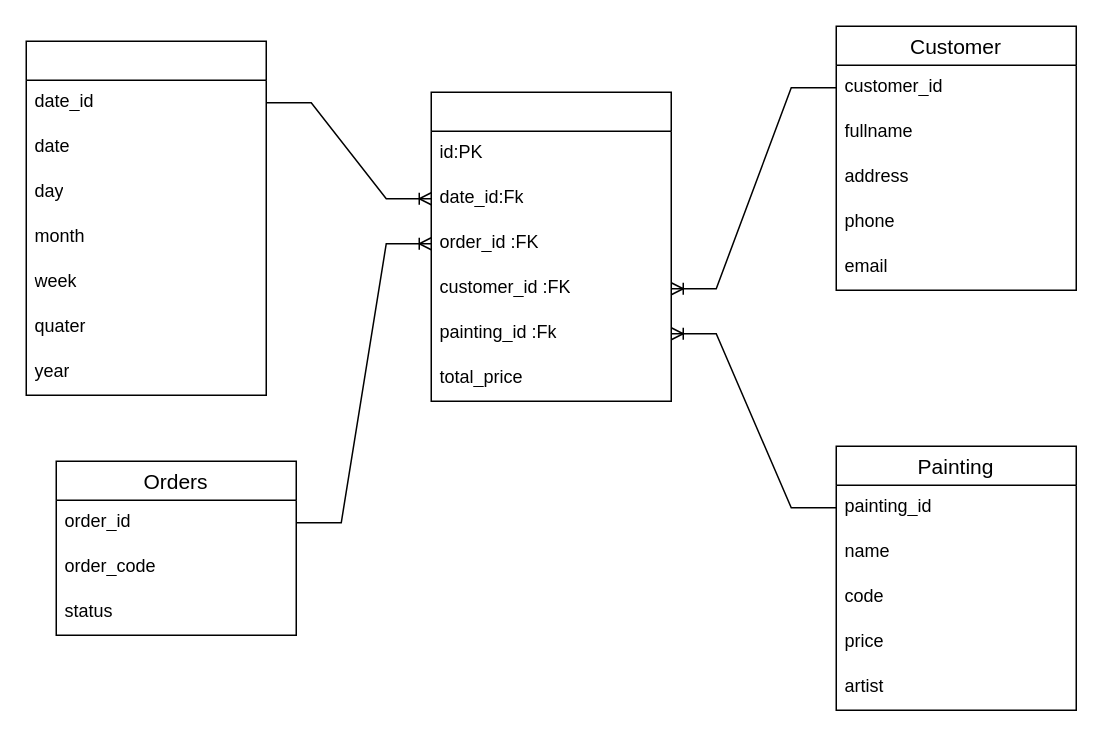
The diagram is 1103 pixels wide and 741 high, and some of its shapes have lost their labels. The box of each missing label's shape, as (x1, y1, x2, y2) in pixels:
Dim_date: (25, 40, 266, 395)
Fact_sales: (430, 91, 671, 401)
